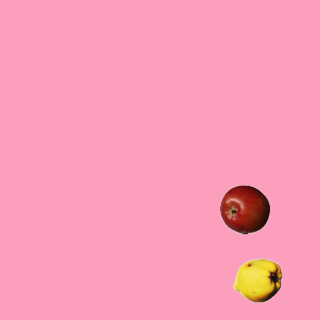Apple Braeburn: (219, 184, 269, 234)
Quince: (232, 255, 282, 305)
